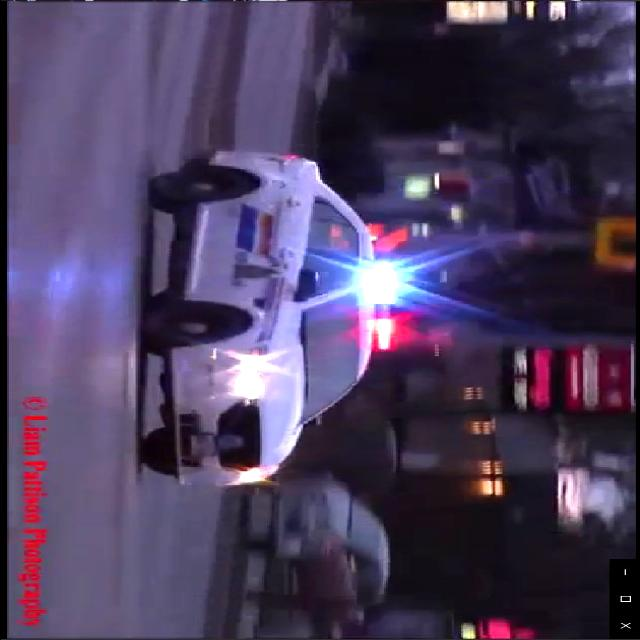emergency: (154, 149, 428, 487)
